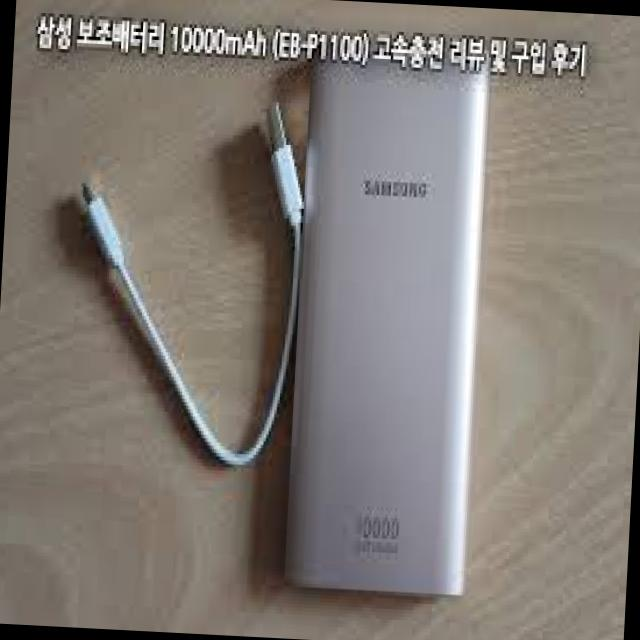portable-charger: (286, 45, 488, 598)
